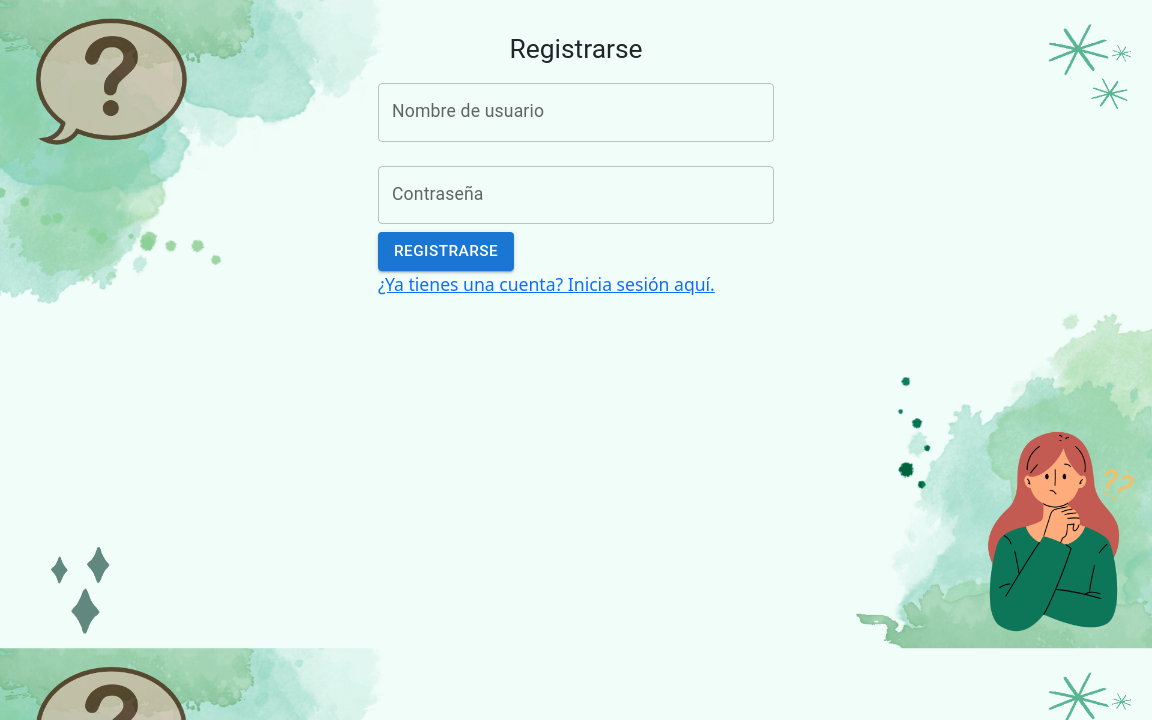
Test: AddUser component › should add user successfully
Note: Simulate user input
Step 1. Type "testUser" into the field labelled "Nombre de usuario" → (576,112), box [378,83,774,142]
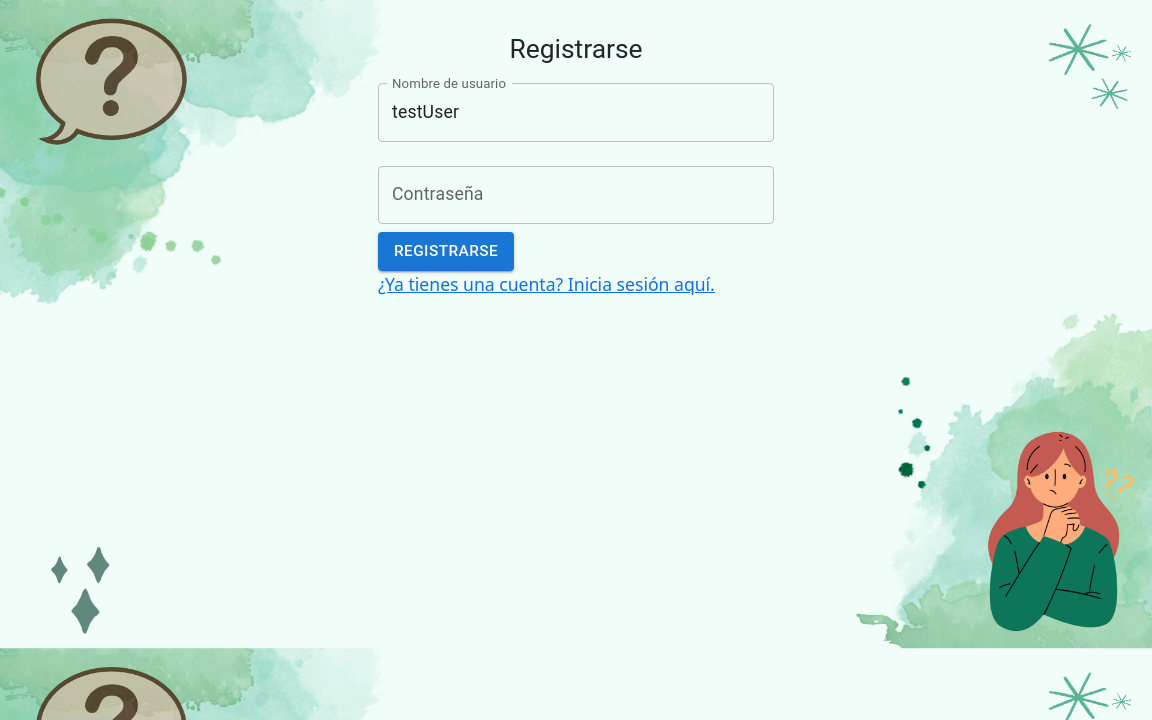
Step 2. Type "testPassword" into the password field labelled "Contraseña" → (576,195), box [378,166,774,224]
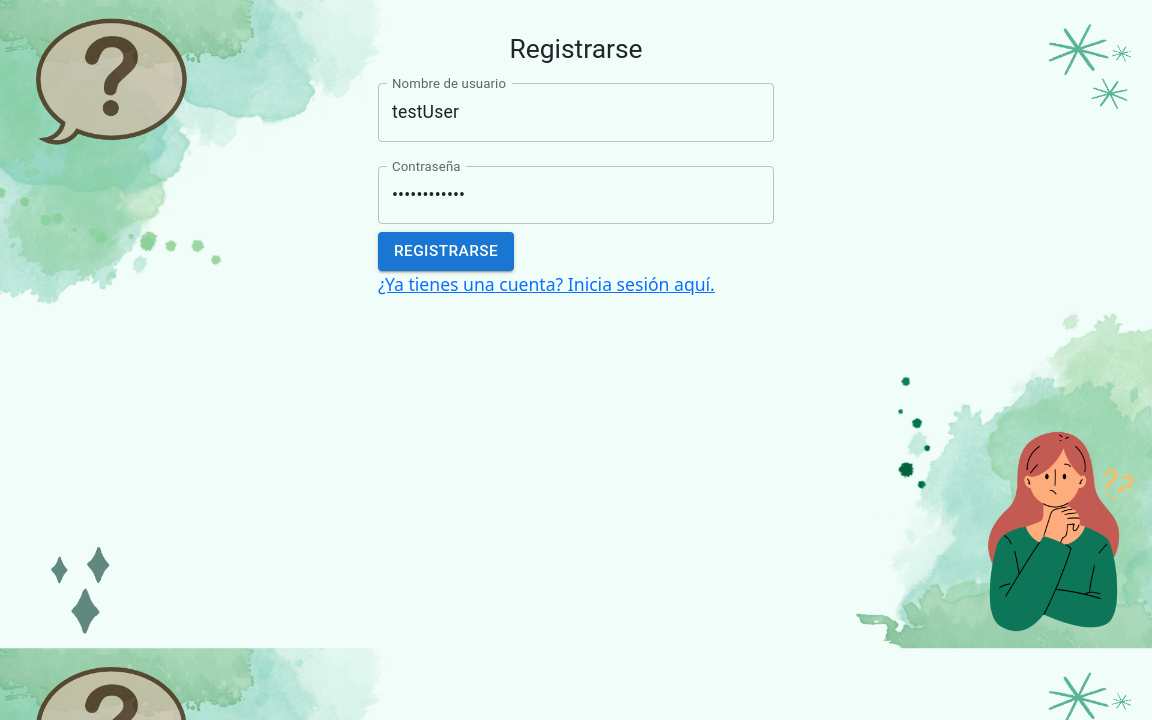
Note: Trigger the add user button click
Step 3. Click the button "Registrarse" → (446,251), box [378,232,514,271]
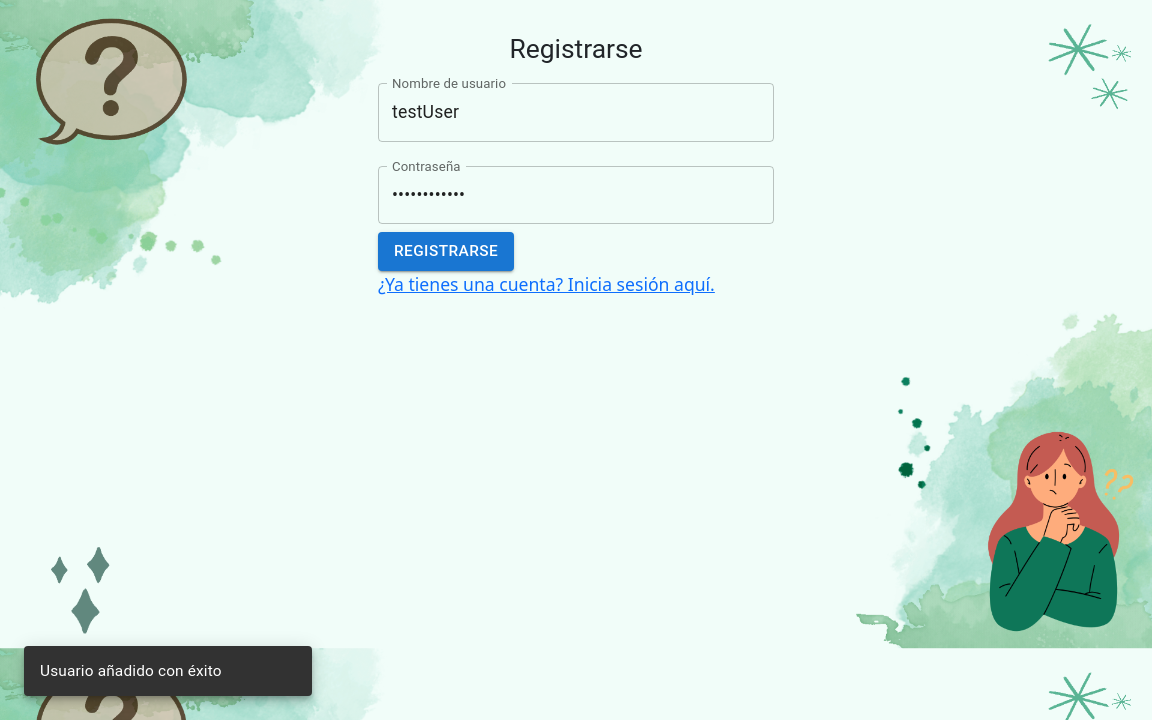
Now the text "Usuario añadido con éxito" is shown, box [40,662,222,680]
